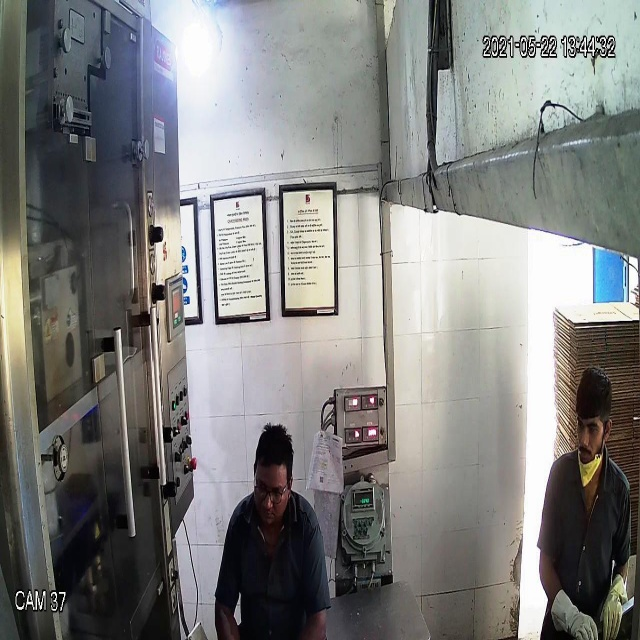Gafas: (250, 471, 293, 508)
Sin_gafas: (575, 413, 608, 441)
